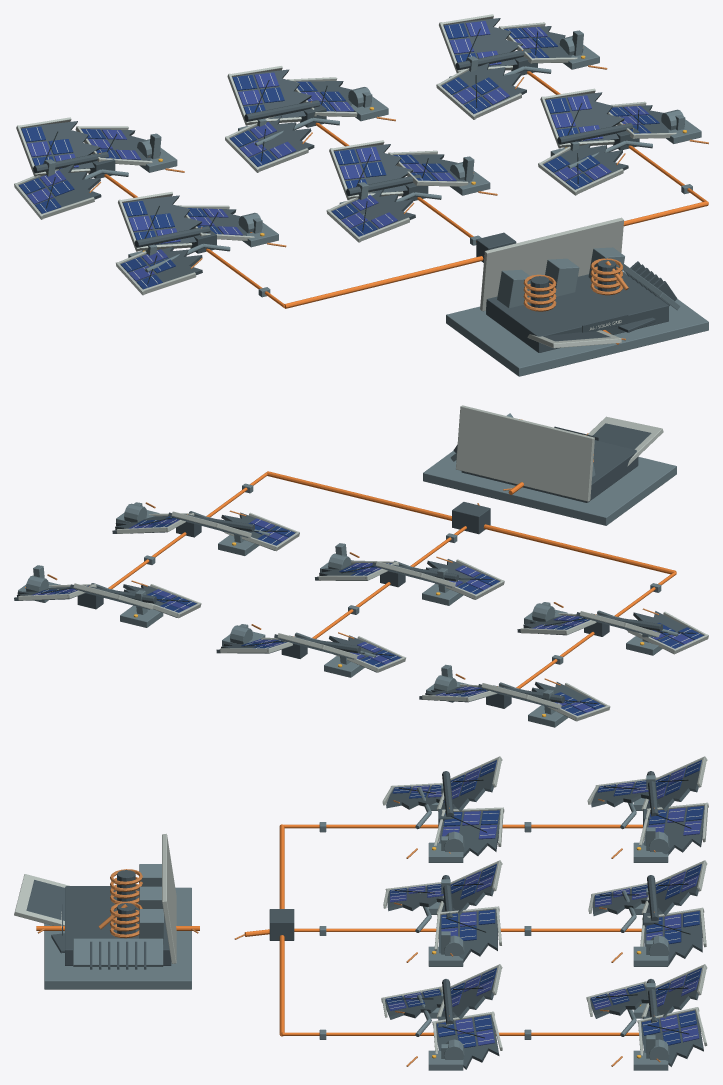
File: solar_power_complex_d3.glb
3 views of the same model, one above another, from view 1: azimuth 30°, elevation 25°; view 2: azimuth 150°, elevation 25°; view 3: azimuth 270°, elevation 25° (orthographic). The views are drawn at different scales.
Visible parts, largest first — view 1: POWER_STATION_FOUNDATION, INVERTER_CHASSIS, SURVIVING_CABINET_BACK, COLLECTION_CABLE_TRUNK, JAGGED_PV_BACKING_002, JAGGED_PV_BACKING_008, JAGGED_PV_BACKING_017, JAGGED_PV_BACKING_011, JAGGED_PV_BACKING_014, JAGGED_PV_BACKING_005, JAGGED_PV_BACKING_009, JAGGED_PV_BACKING_015 (+11 smaller); view 2: SURVIVING_CABINET_BACK, POWER_STATION_FOUNDATION, COLLECTION_CABLE_TRUNK, INVERTER_CHASSIS, ARRAY_COMBINER_BOX, DOOR_INSET_WRECK, BUCKLED_INVERTER_DOOR, ARRAY_COLLECTION_CABLE, ARRAY_COLLECTION_CABLE_002, ARRAY_COLLECTION_CABLE_001, RACK_ANCHOR_FOOTING_010, JAGGED_PV_BACKING (+1 smaller); view 3: POWER_STATION_FOUNDATION, INVERTER_CHASSIS, FALLEN_COOLING_BANK, ARRAY_COLLECTION_CABLE, SURVIVING_CABINET_BACK, DOOR_INSET_WRECK, COLLECTION_CABLE_TRUNK, ARRAY_COLLECTION_CABLE_002, JAGGED_PV_BACKING_004, ARRAY_COLLECTION_CABLE_001, JAGGED_PV_BACKING_013, JAGGED_PV_BACKING_010 (+24 smaller).
Boxes of the visible parts, x1,y1,x2,y2 form: POWER_STATION_FOUNDATION: [446, 271, 708, 376]; INVERTER_CHASSIS: [486, 272, 668, 352]; SURVIVING_CABINET_BACK: [480, 217, 623, 311]; COLLECTION_CABLE_TRUNK: [284, 201, 708, 308]; JAGGED_PV_BACKING_002: [122, 195, 201, 245]; JAGGED_PV_BACKING_008: [545, 92, 624, 141]; JAGGED_PV_BACKING_017: [443, 18, 522, 66]; JAGGED_PV_BACKING_011: [21, 121, 100, 169]; JAGGED_PV_BACKING_014: [232, 69, 311, 118]; JAGGED_PV_BACKING_005: [333, 144, 413, 193]; JAGGED_PV_BACKING_009: [18, 164, 101, 213]; JAGGED_PV_BACKING_015: [443, 63, 526, 108]; SURVIVING_CABINET_BACK: [456, 405, 594, 501]; POWER_STATION_FOUNDATION: [423, 451, 676, 525]; COLLECTION_CABLE_TRUNK: [266, 471, 676, 574]; INVERTER_CHASSIS: [461, 440, 638, 502]; ARRAY_COMBINER_BOX: [452, 502, 490, 534]; DOOR_INSET_WRECK: [592, 423, 651, 449]; BUCKLED_INVERTER_DOOR: [588, 416, 663, 466]; ARRAY_COLLECTION_CABLE: [516, 571, 676, 688]; ARRAY_COLLECTION_CABLE_002: [108, 472, 267, 589]; ARRAY_COLLECTION_CABLE_001: [312, 526, 466, 638]; RACK_ANCHOR_FOOTING_010: [120, 605, 163, 627]; JAGGED_PV_BACKING: [626, 611, 693, 653]; POWER_STATION_FOUNDATION: [44, 887, 191, 989]; INVERTER_CHASSIS: [65, 886, 171, 965]; FALLEN_COOLING_BANK: [73, 938, 163, 966]; ARRAY_COLLECTION_CABLE: [284, 824, 642, 828]; SURVIVING_CABINET_BACK: [162, 833, 176, 963]; DOOR_INSET_WRECK: [26, 880, 64, 920]; COLLECTION_CABLE_TRUNK: [279, 824, 284, 1036]; ARRAY_COLLECTION_CABLE_002: [282, 1032, 638, 1035]; JAGGED_PV_BACKING_004: [439, 909, 497, 962]; ARRAY_COLLECTION_CABLE_001: [294, 928, 641, 931]; JAGGED_PV_BACKING_013: [644, 911, 702, 965]; JAGGED_PV_BACKING_010: [643, 806, 704, 855].
Bounding box in the file's own units: 16.42 × 2.04 × 16.96.
